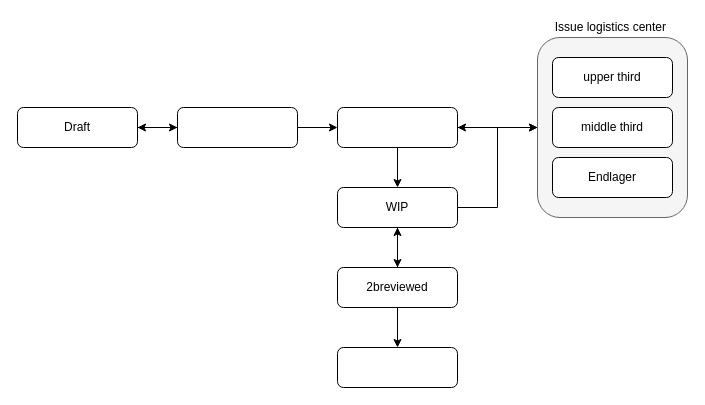
The diagram is 705 pixels wide and 405 high, and some of its shapes have lost their labels. Here are the shapes that lost their labels. From the top down, the centre of each, then its label:
the point at 237,127: 2bCP
the point at 397,127: Backlog
the point at 397,367: Issue closed
